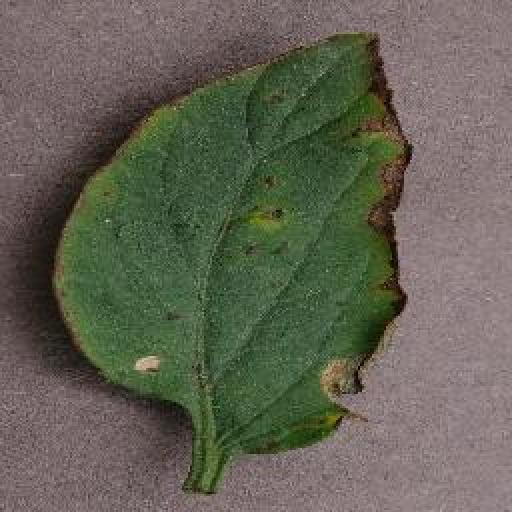Bacterial Spot: (52, 30, 417, 458)
